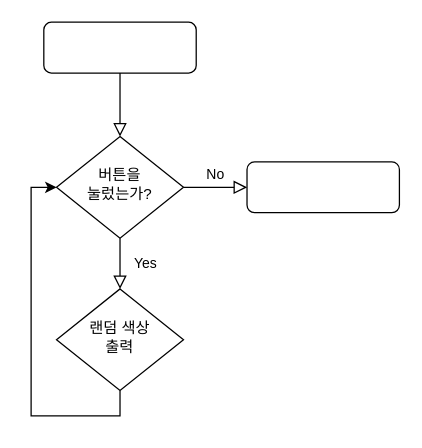
Some shapes in this 422 by 448 pixel diagram are drawn without their labels. Each missing label, with the box of its shape:
기존 색상 유지: (246, 161, 399, 213)
버튼을 누른다: (43, 21, 196, 73)
